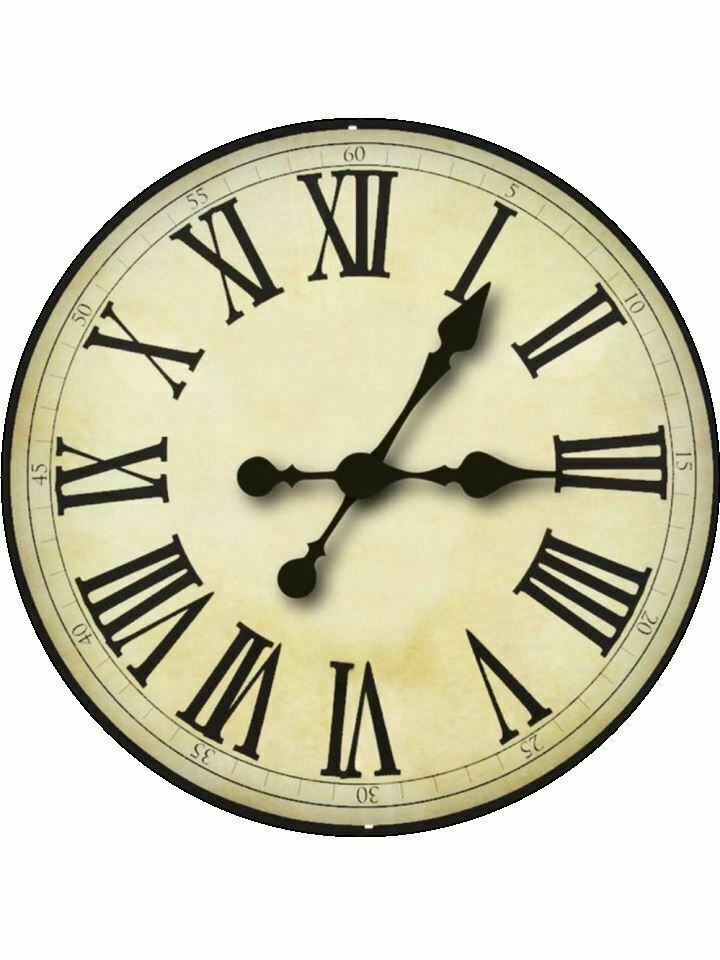clock: (18, 28, 720, 865)
